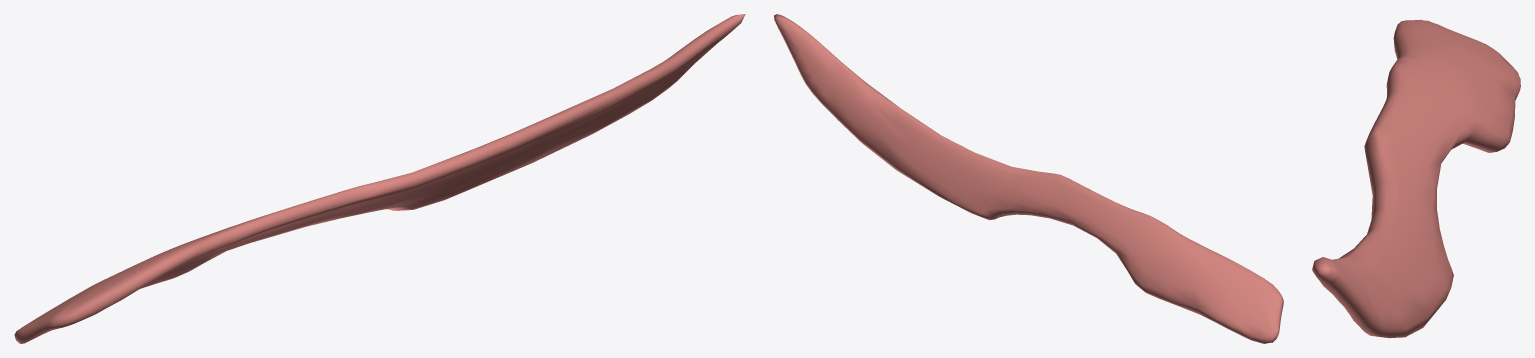
3 views of the same model, side by side, from view 1: azimuth 30°, elevation 25°; view 2: azimuth 150°, elevation 25°; view 3: azimuth 270°, elevation 25° (orthographic). The views are drawn at different scales.
Parts seen in each view (by area): view 1: ZA_532802c3e94593b2; view 2: ZA_532802c3e94593b2; view 3: ZA_532802c3e94593b2.
Part boxes in pixels (bbox=[...]): ZA_532802c3e94593b2: bbox=[14, 14, 745, 343]; ZA_532802c3e94593b2: bbox=[774, 14, 1283, 343]; ZA_532802c3e94593b2: bbox=[1312, 19, 1520, 338].
Size of the model in its own units: 0.025 by 0.00728 by 0.00415.
